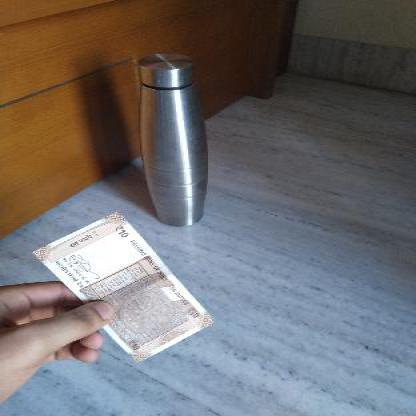New10Back: (32, 212, 208, 358)
